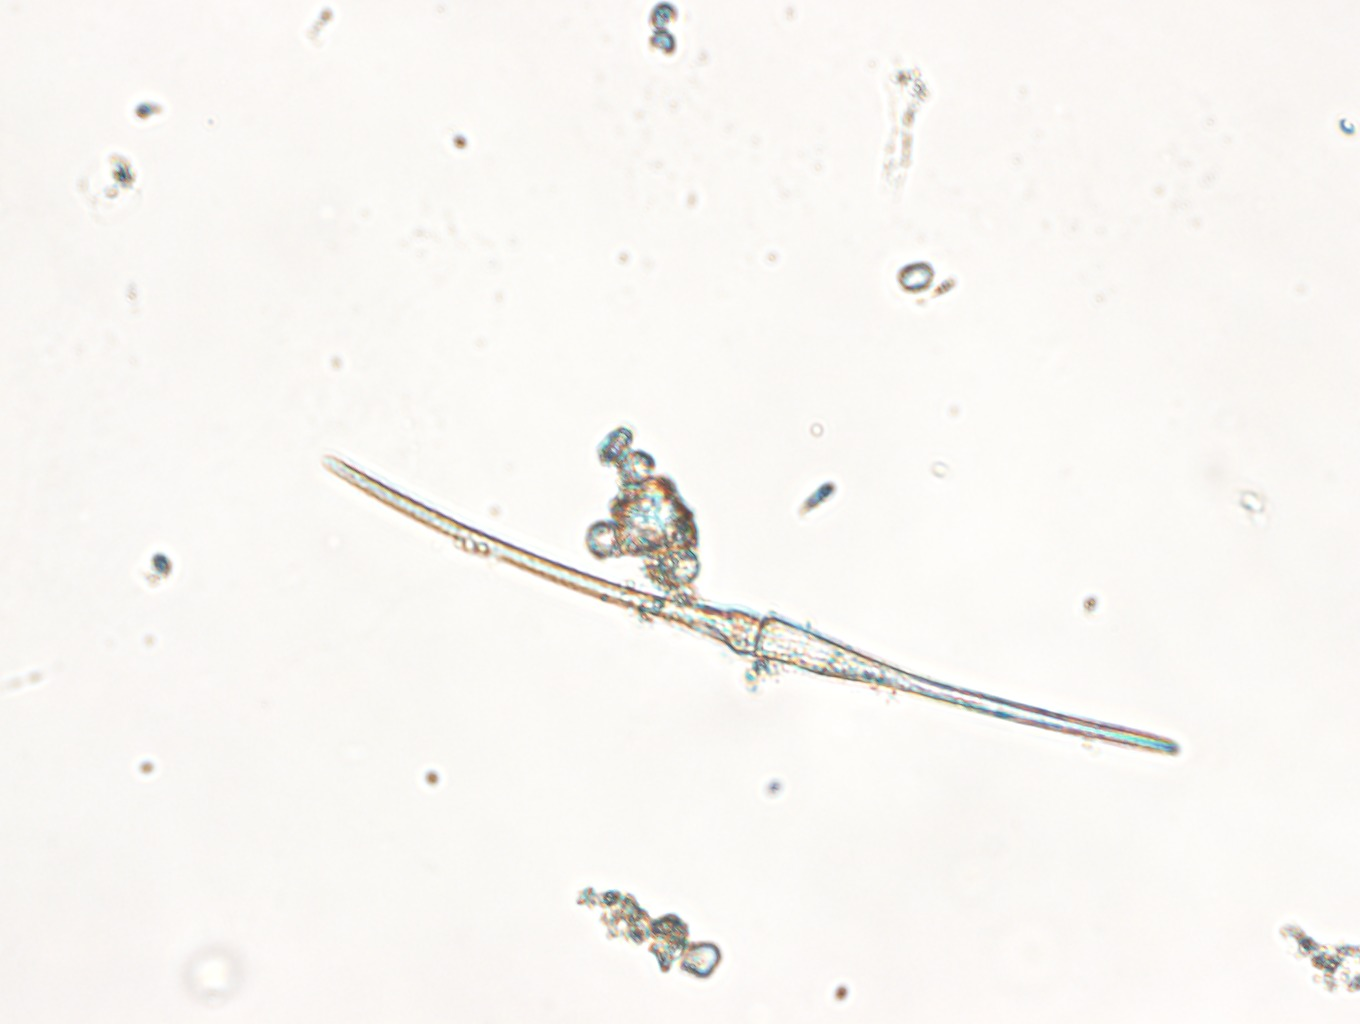ceratium fusus: (313, 447, 1182, 763)
